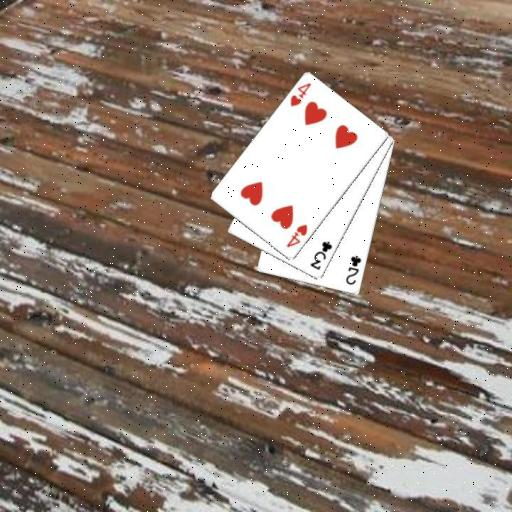2C: (343, 253, 363, 287)
3C: (308, 238, 334, 272)
4H: (283, 222, 309, 250), (287, 80, 313, 108)
